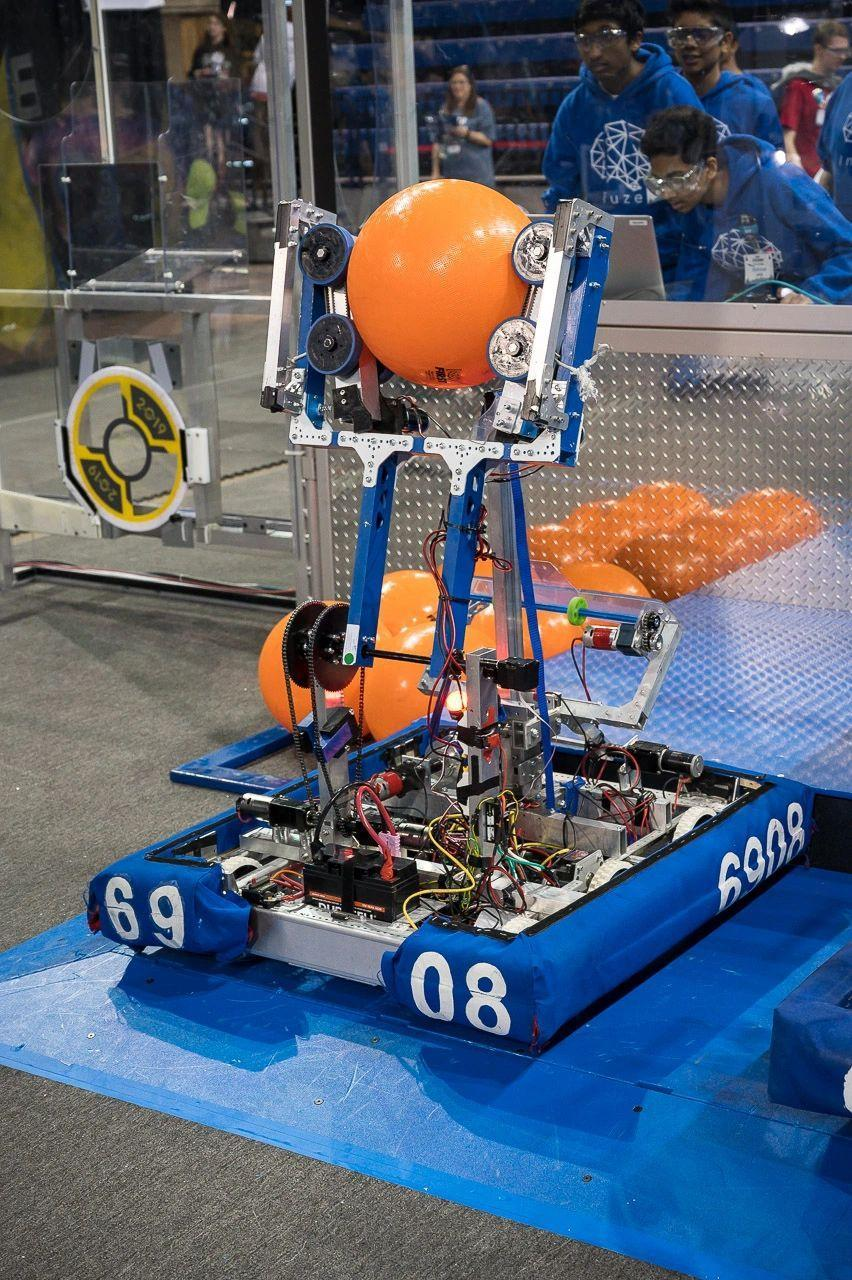robot: (76, 190, 822, 1064), (762, 868, 852, 1154)
